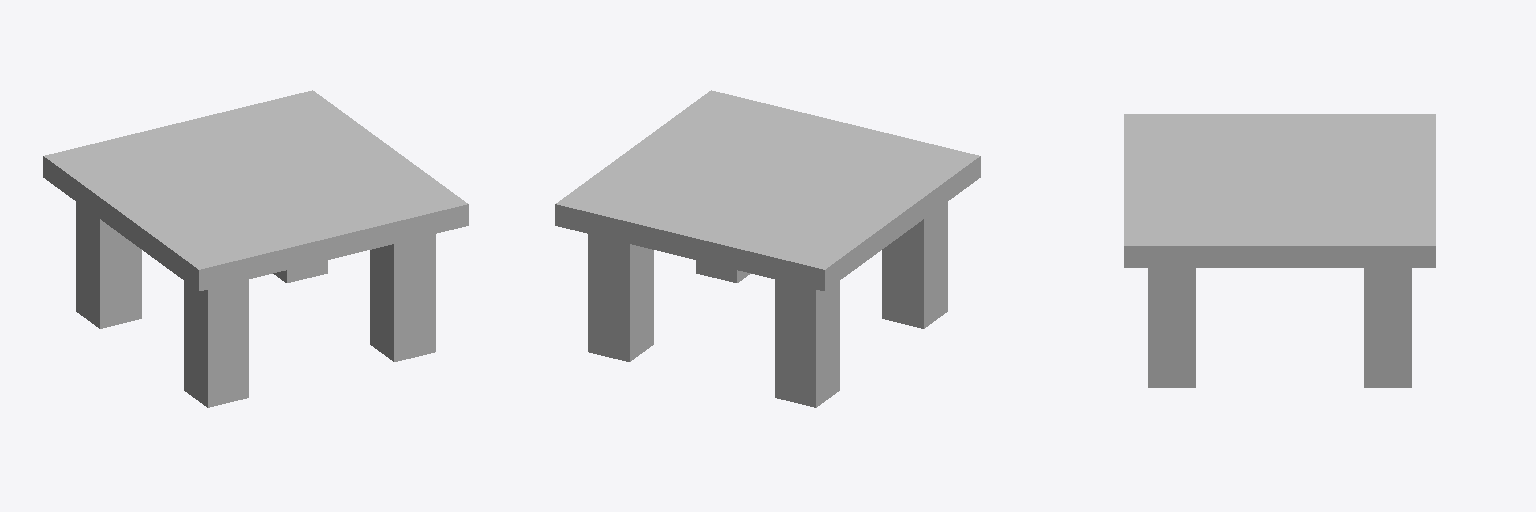
Rendered from table.obj.
3 views of the same model, side by side, from view 1: azimuth 30°, elevation 25°; view 2: azimuth 150°, elevation 25°; view 3: azimuth 270°, elevation 25° (orthographic).
Parts seen in each view (by area): view 1: object 1; view 2: object 1; view 3: object 1.
Part boxes in pixels (x1,y1,x2,y2): object 1: (43,90,468,407); object 1: (555,90,980,407); object 1: (1124,114,1435,387).
Size of the model in its own units: 1.3 by 0.7 by 1.3.